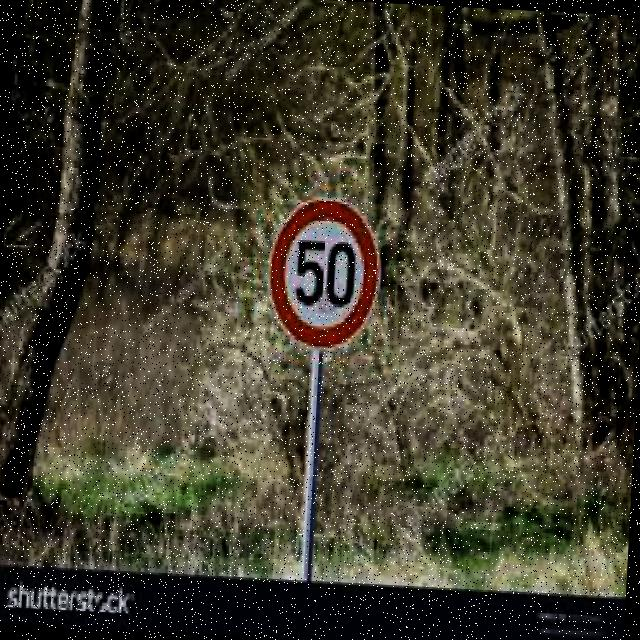Ograniczenie predkosci do 50: (267, 190, 383, 356)
